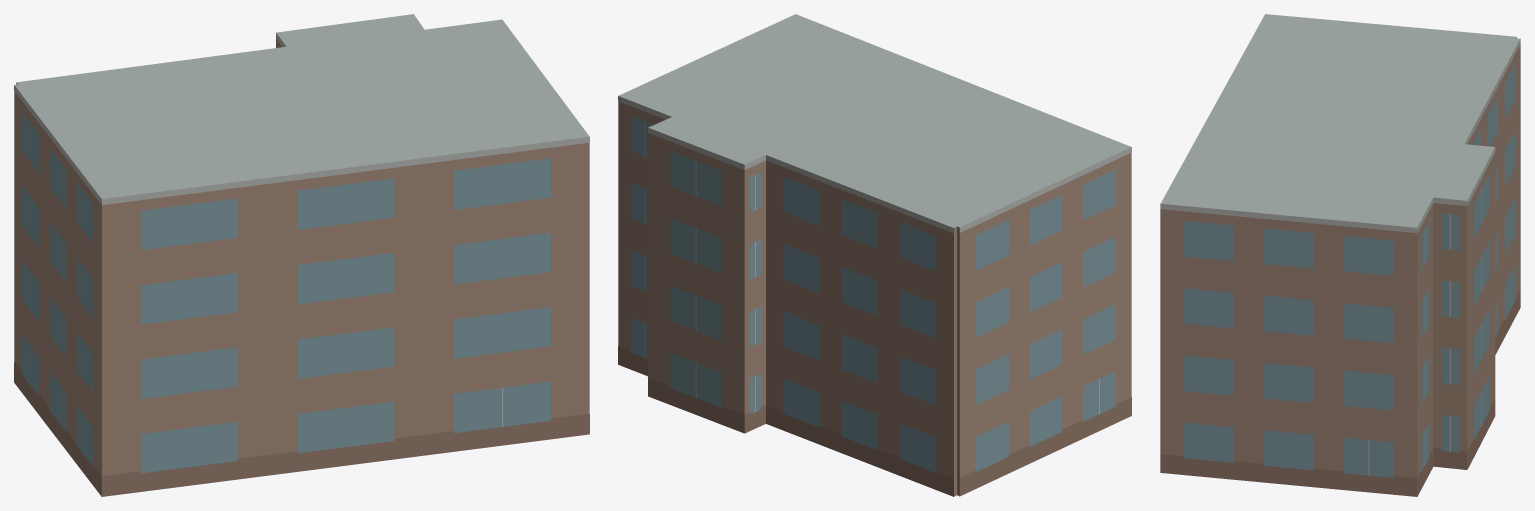
File: survey-upis-32801415.glb
3 views of the same model, side by side, from view 1: azimuth 30°, elevation 25°; view 2: azimuth 150°, elevation 25°; view 3: azimuth 270°, elevation 25° (orthographic). The views are drawn at different scales.
Parts seen in each view (by area): view 1: survey-upis-32801415.tmp; view 2: survey-upis-32801415.tmp; view 3: survey-upis-32801415.tmp.
Boxes of the visible parts, x1=… form: survey-upis-32801415.tmp: x1=14, y1=14, x2=589, y2=496; survey-upis-32801415.tmp: x1=618, y1=14, x2=1131, y2=496; survey-upis-32801415.tmp: x1=1160, y1=14, x2=1520, y2=496.
Bounding box in the file's own units: 20.77 × 12.18 × 14.78.
